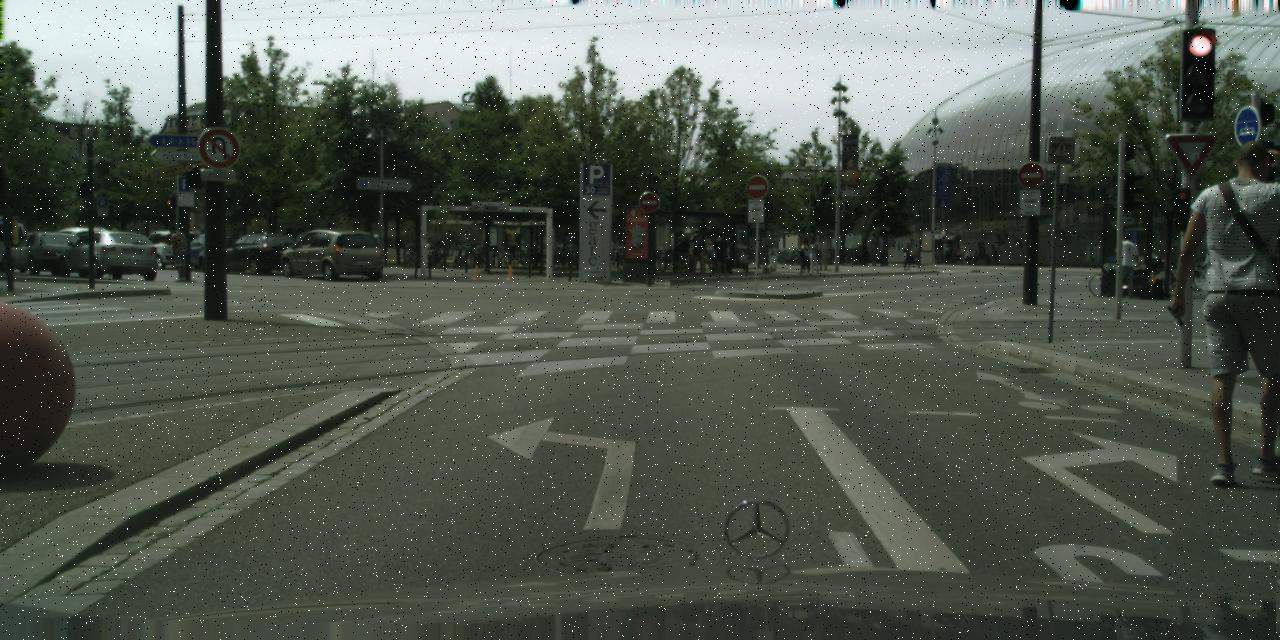ped: (1180, 140, 1279, 483), (1112, 233, 1138, 298), (165, 226, 187, 280), (712, 231, 730, 276), (676, 232, 694, 276), (964, 241, 992, 266), (688, 234, 705, 275), (797, 237, 811, 273), (806, 237, 820, 272), (902, 237, 916, 270), (559, 232, 570, 258), (943, 245, 951, 263), (957, 247, 963, 264)
